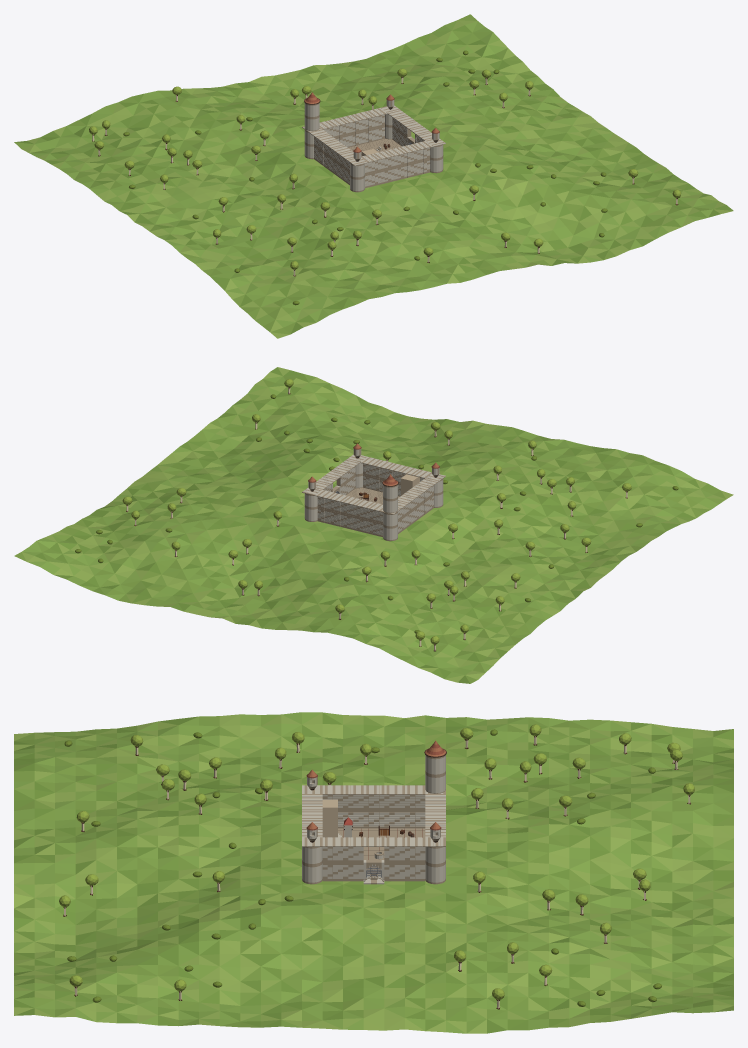
File: FreeKit_Bailey.fbx
3 renders of one model, top to bottom at view 1: azimuth 30°, elevation 25°; view 2: azimuth 150°, elevation 25°; view 3: azimuth 270°, elevation 25°, orthographic. The views are drawn at different scales.
Visible parts, largest first — view 1: Terrain; view 2: Terrain; view 3: Terrain, Stair_support.
Part boxes in pixels (x1,y1,x2,y2): Terrain: (14,14,733,338); Terrain: (14,367,733,683); Terrain: (14,712,733,1033); Stair_support: (322,799,337,837).
Bounding box in the file's own units: 14000 × 2621 × 14000.
Materials: 26 (21 with a texture image).
